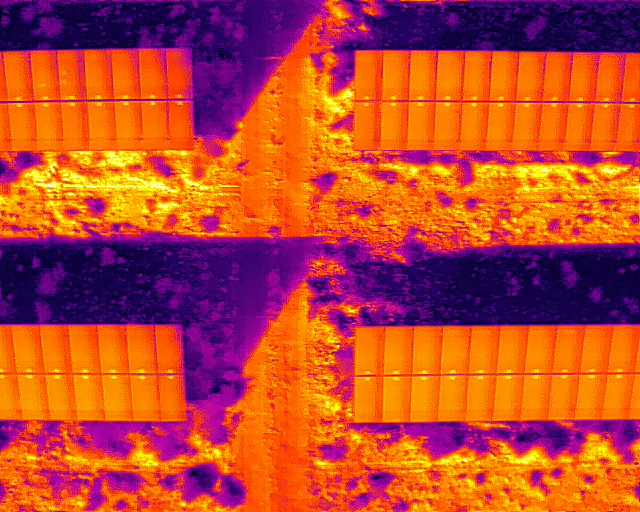multi_spot: (59, 48, 85, 99)
photovoltaic_panels: (351, 49, 637, 152), (353, 323, 639, 425), (0, 45, 195, 151), (1, 322, 189, 422)
single_spot: (29, 49, 58, 99)
